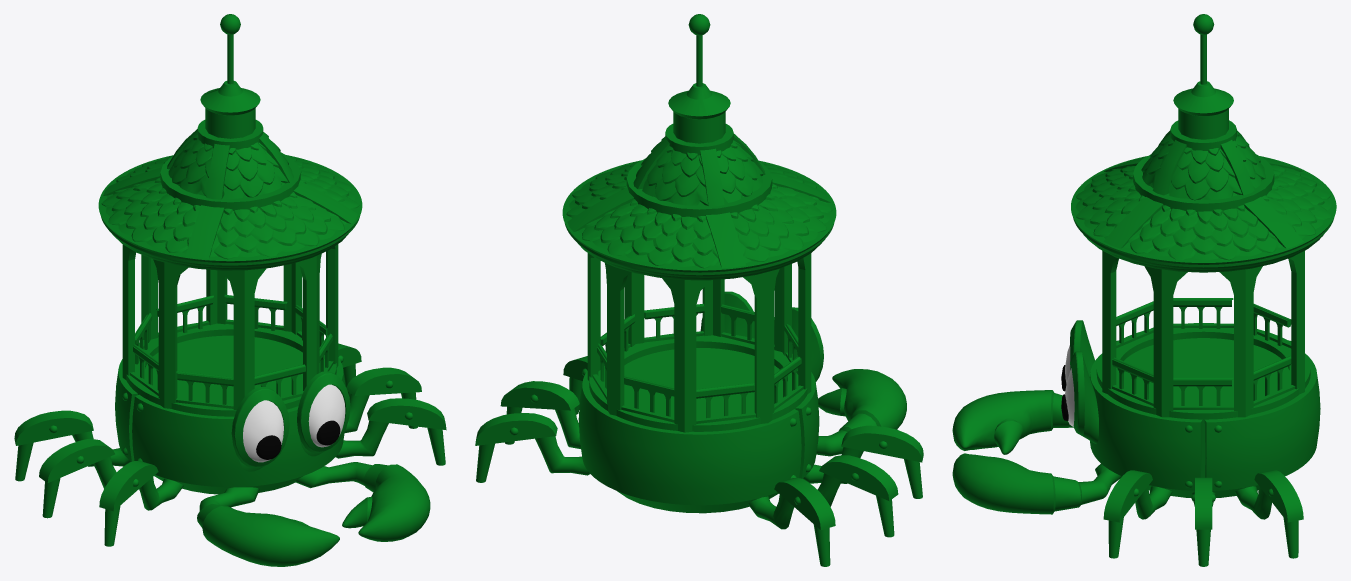
Rendered from garden_mascot.dae.
The picture shows the model from 3 angles, left to right: view 1: azimuth 30°, elevation 25°; view 2: azimuth 150°, elevation 25°; view 3: azimuth 270°, elevation 25°; orthographic projection. The views are drawn at different scales.
Visible parts, largest first — view 1: Green, White, Black; view 2: Green; view 3: Green, White.
Boxes of the visible parts, x1,y1,x2,y2 form: Green: [14, 14, 446, 566]; White: [243, 384, 345, 462]; Black: [256, 420, 340, 459]; Green: [475, 14, 923, 566]; Green: [952, 14, 1336, 566]; White: [1065, 345, 1074, 426].
Bounding box in the file's own units: 11.51 × 10.15 × 13.42.
